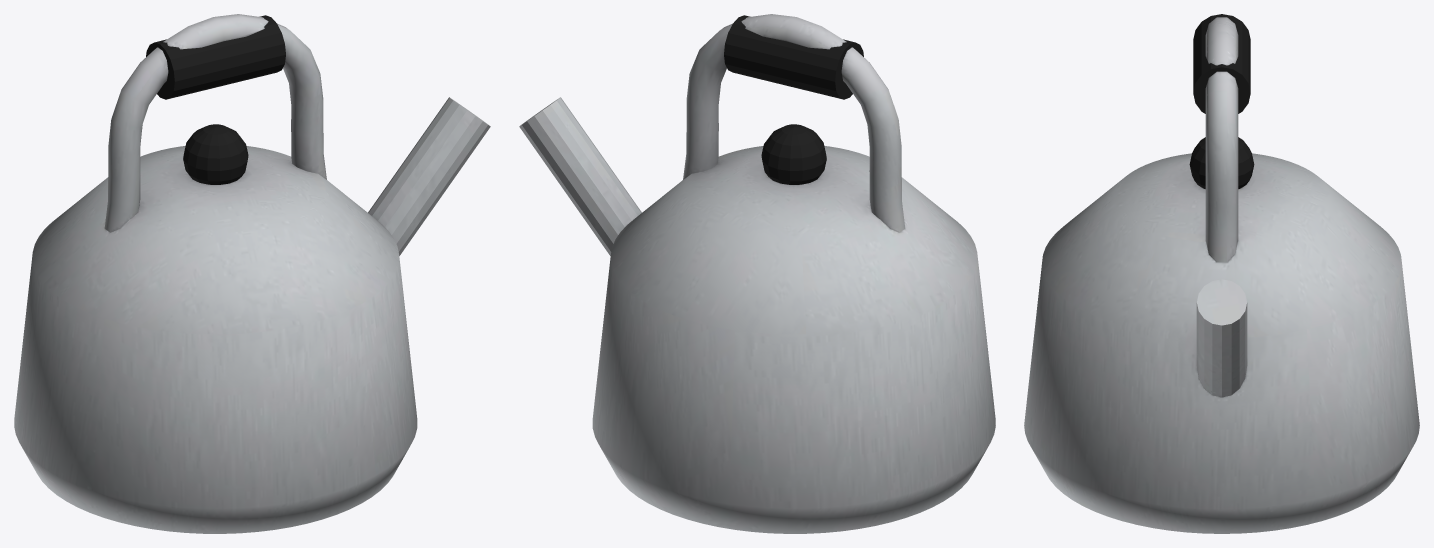
File: stovetop-steel.glb
3 views of the same model, side by side, from view 1: azimuth 30°, elevation 25°; view 2: azimuth 150°, elevation 25°; view 3: azimuth 270°, elevation 25° (orthographic).
Parts seen in each view (by area): view 1: steel, bakelite; view 2: steel, bakelite; view 3: steel, bakelite.
Boxes of the visible parts, box(x1,y1,x2,y2) form: steel: box(14, 14, 490, 533); bakelite: box(146, 15, 285, 184); steel: box(519, 14, 995, 533); bakelite: box(724, 15, 863, 184); steel: box(1024, 17, 1419, 533); bakelite: box(1189, 14, 1254, 188).
Bounding box in the file's own units: 0.2805 × 0.2632 × 0.22.
Materials: 2 (1 with a texture image).
